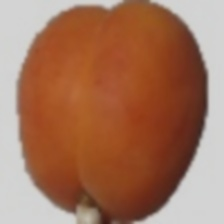apricot: (0, 6, 191, 206)
